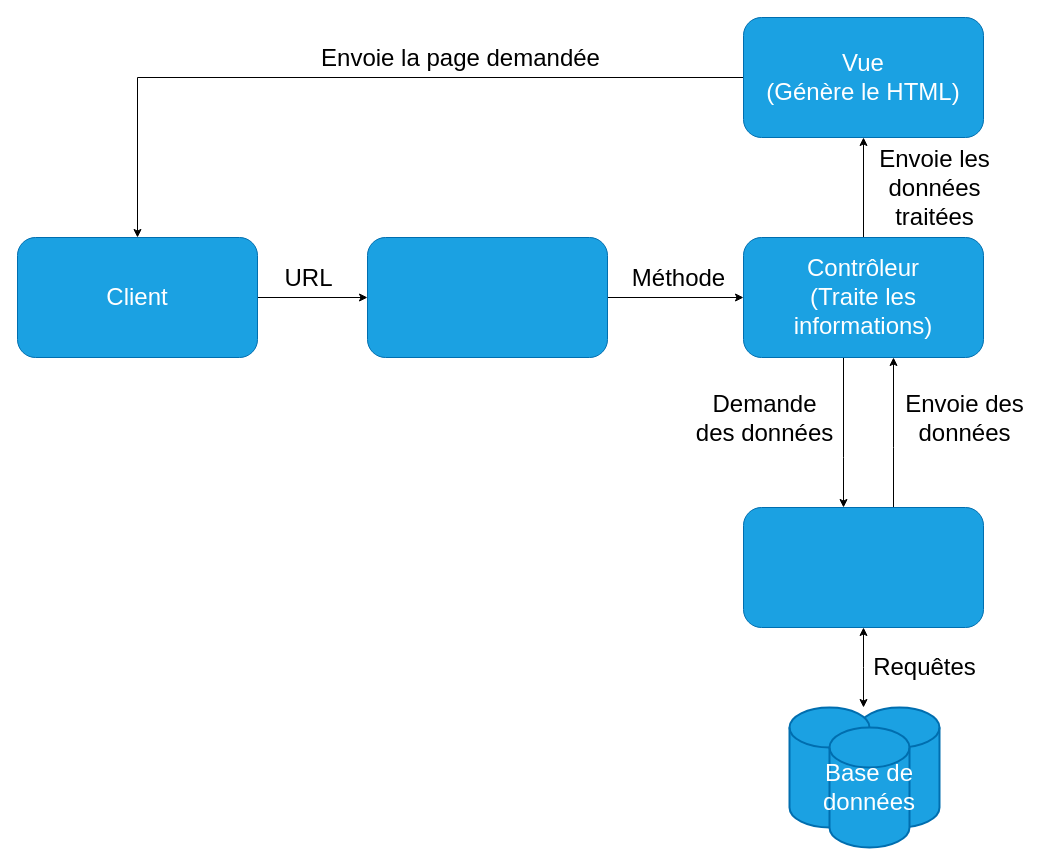
Some shapes in this 1041 by 866 pixel diagram are drawn without their labels. The centre of each missing label's shape, as x and y in pixels:
"Modèle (Gère les échanges avec la BDD)" belongs at [863,567].
"Routeur (Trouve le bon contrôleur)" belongs at [487,297].
